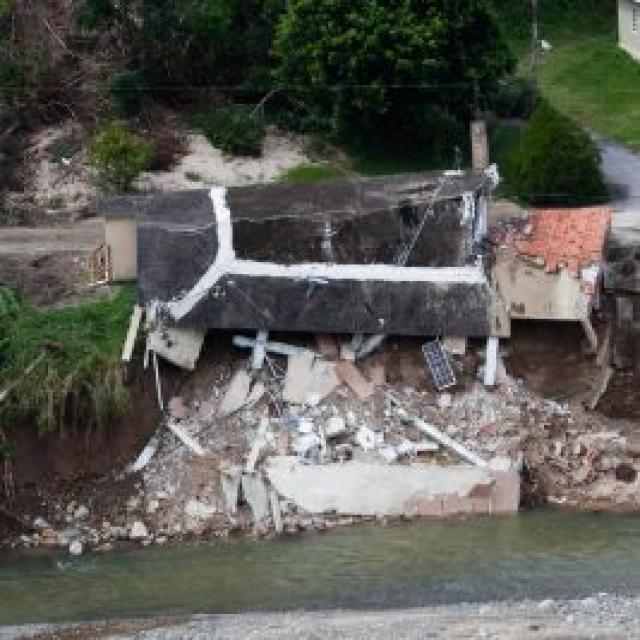collapsed_building: (115, 194, 638, 432)
